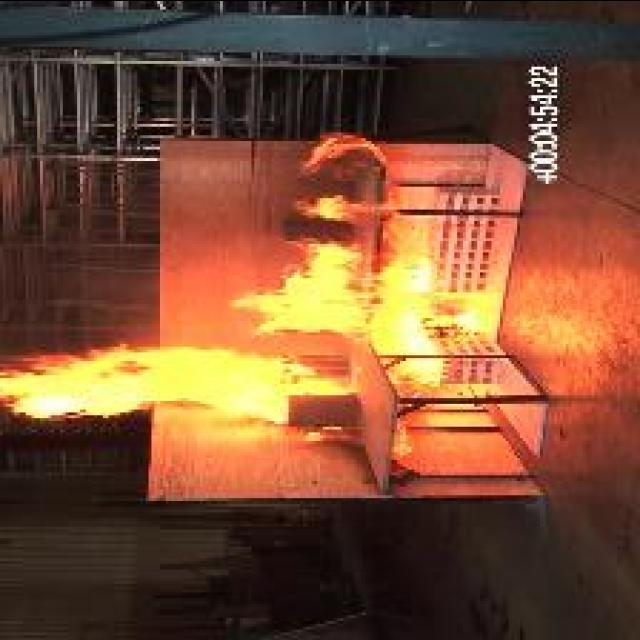Fire: (234, 134, 477, 388), (1, 342, 348, 424)
